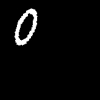chain: (15, 9, 36, 44)
